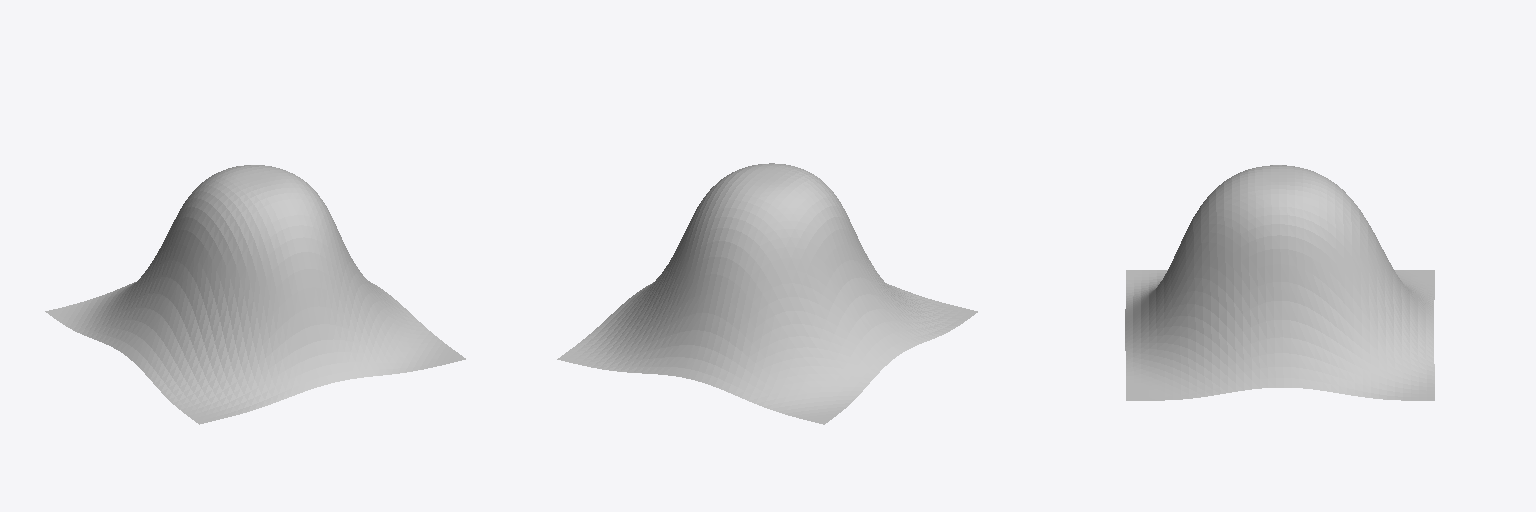
Rendered from Plano gaus.obj.
The picture shows the model from 3 angles: view 1: azimuth 30°, elevation 25°; view 2: azimuth 150°, elevation 25°; view 3: azimuth 270°, elevation 25°; orthographic projection.
Parts seen in each view (by area): view 1: Plane; view 2: Plane; view 3: Plane.
Boxes of the visible parts, <box> form: Plane: <box>45,165,465,424</box>; Plane: <box>557,163,977,424</box>; Plane: <box>1125,165,1434,400</box>.
Size of the model in its own units: 1.27 by 0.7243 by 1.28.